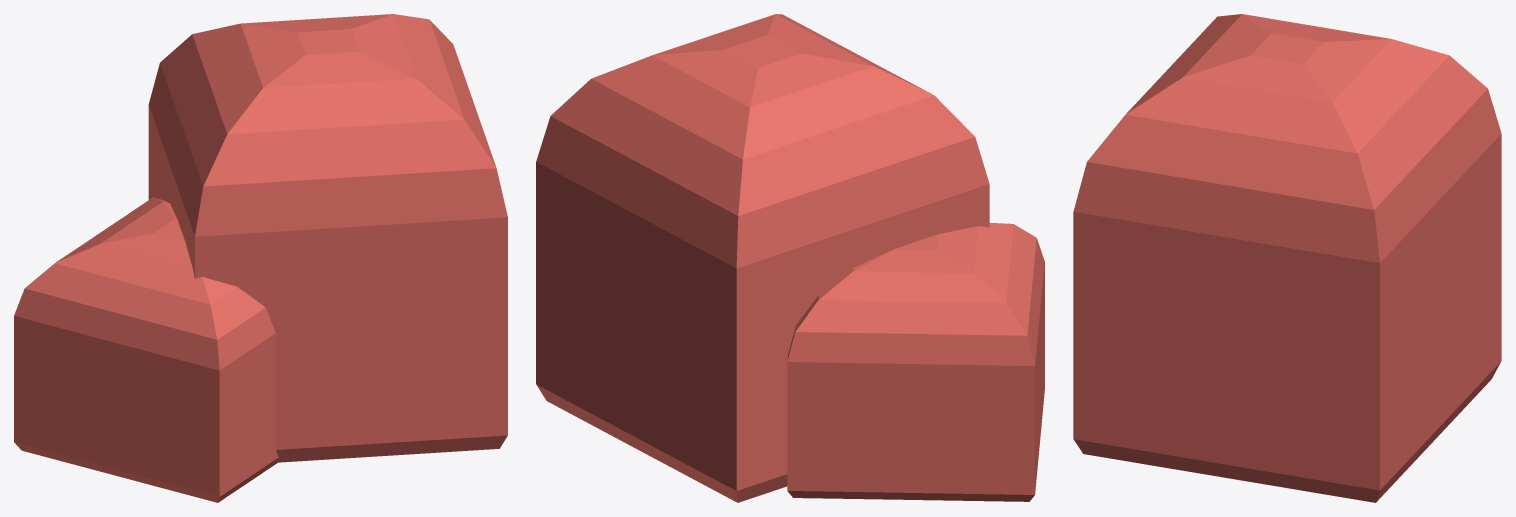
Rendered from SM_EN_LargeBush_02.fbx.
3 renders of one model, left to right at view 1: azimuth 30°, elevation 25°; view 2: azimuth 150°, elevation 25°; view 3: azimuth 270°, elevation 25°, orthographic. The views are drawn at different scales.
Visible parts, largest first — view 1: SM_EN_LargeBush_02; view 2: SM_EN_LargeBush_02; view 3: SM_EN_LargeBush_02.
Boxes of the visible parts, x1,y1,x2,y2 form: SM_EN_LargeBush_02: [14, 14, 507, 502]; SM_EN_LargeBush_02: [536, 14, 1044, 502]; SM_EN_LargeBush_02: [1073, 14, 1501, 502].
Size of the model in its own units: 492 by 373 by 361.
